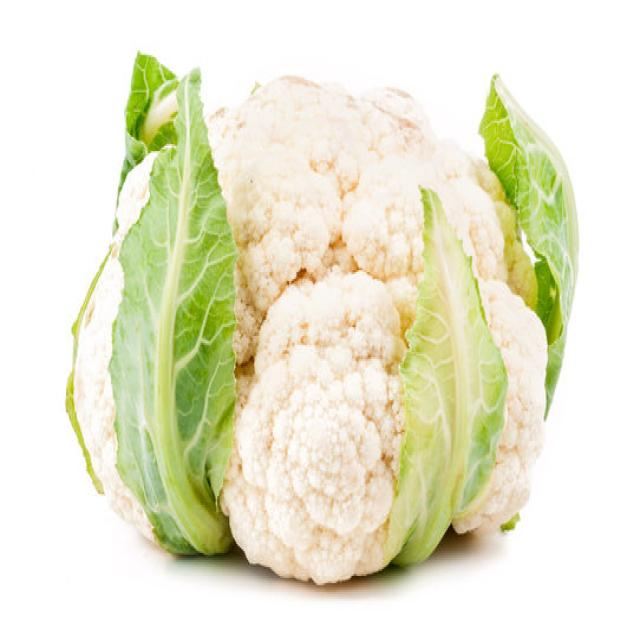Cauliflower: (74, 65, 586, 598)
